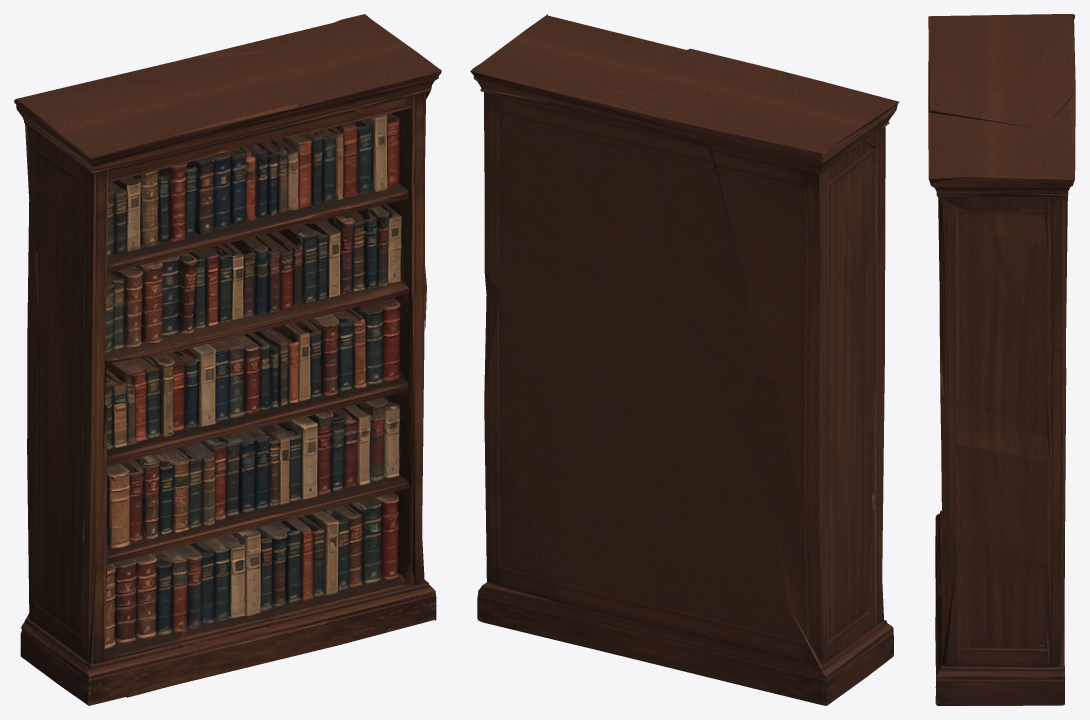
Rendered from bookcase.glb.
3 views of the same model, side by side, from view 1: azimuth 30°, elevation 25°; view 2: azimuth 150°, elevation 25°; view 3: azimuth 270°, elevation 25° (orthographic). The views are drawn at different scales.
Parts seen in each view (by area): view 1: Mesh_0; view 2: Mesh_0; view 3: Mesh_0.
Boxes of the visible parts, left/top/right/bottom form: Mesh_0: left=14, top=14, right=441, bottom=705; Mesh_0: left=470, top=14, right=899, bottom=705; Mesh_0: left=928, top=14, right=1075, bottom=705.
Size of the model in its own units: 1.26 by 1.9 by 0.4789.
Materials: 1 (1 with a texture image).
